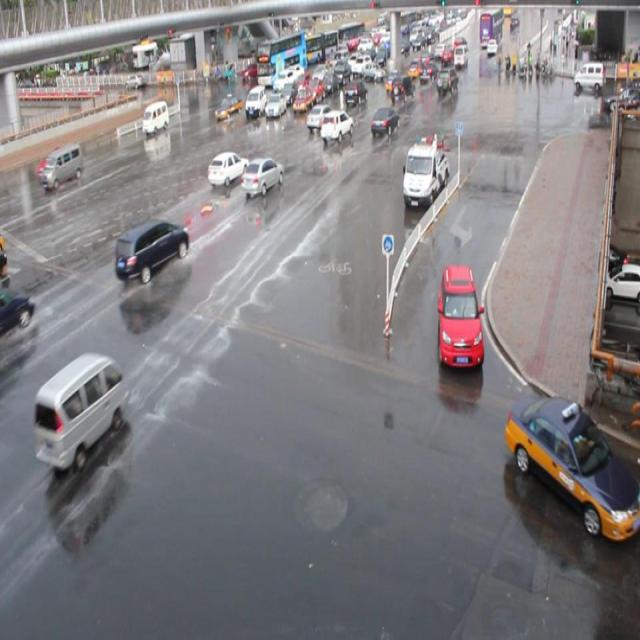bus: (401, 135, 448, 203)
car: (503, 390, 640, 540), (436, 264, 484, 368), (114, 218, 190, 282), (1, 284, 35, 339), (241, 157, 284, 197), (207, 151, 250, 186), (320, 108, 353, 143), (37, 144, 68, 177), (369, 106, 400, 137), (214, 92, 243, 121), (306, 104, 336, 130), (388, 73, 414, 102), (343, 80, 368, 105), (264, 90, 286, 116), (291, 85, 312, 112), (273, 68, 295, 93), (305, 75, 324, 99), (279, 79, 298, 101), (292, 70, 310, 92)
truck: (32, 352, 124, 468), (41, 143, 84, 188), (142, 99, 168, 134), (248, 84, 270, 115)
